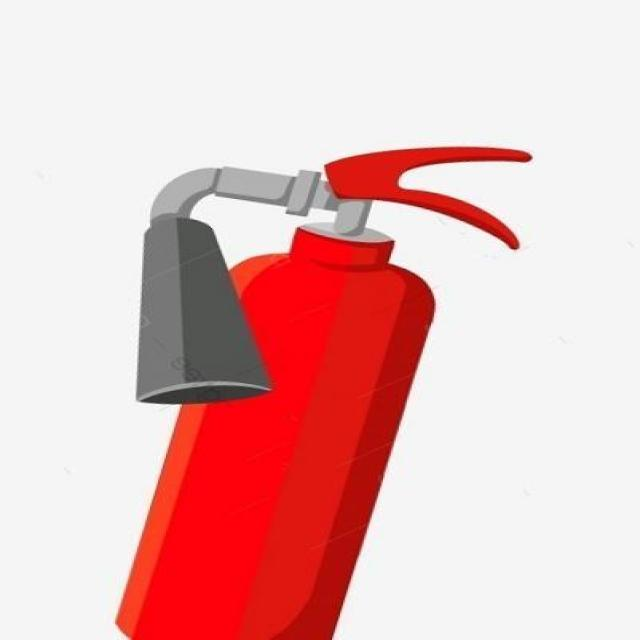fire_extinguisher: (102, 138, 541, 639)
